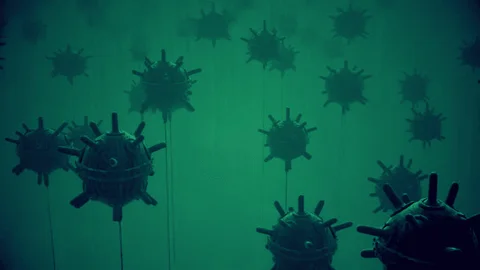Mines: (356, 173, 480, 270), (59, 112, 167, 222), (256, 194, 353, 270), (5, 116, 80, 186), (132, 50, 202, 124), (259, 105, 318, 171), (367, 156, 427, 218), (319, 54, 374, 118), (240, 20, 286, 68), (45, 43, 95, 86), (402, 106, 449, 147), (329, 2, 373, 45), (191, 3, 230, 46), (398, 66, 436, 107), (269, 45, 302, 76), (456, 35, 480, 71)
